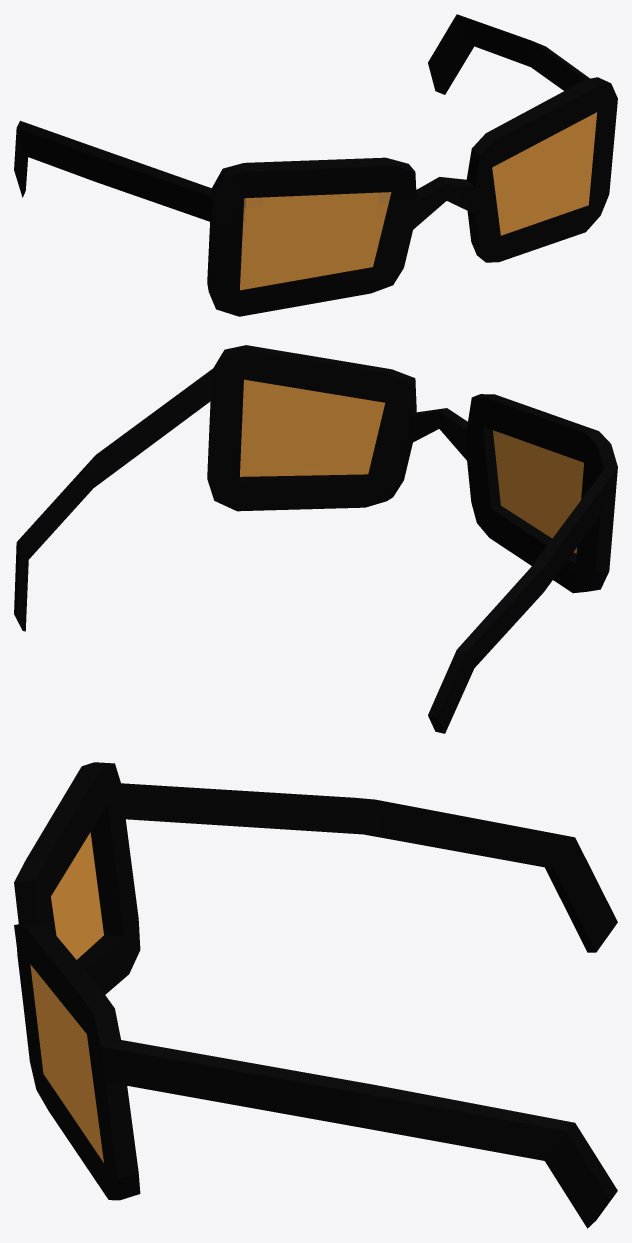
The model's file is WorldItem-GlassesCheese.fbx.
3 views of the same model, one above another, from view 1: azimuth 30°, elevation 25°; view 2: azimuth 150°, elevation 25°; view 3: azimuth 270°, elevation 25° (orthographic). The views are drawn at different scales.
Visible parts, largest first — view 1: M_Glasses_Normal; view 2: M_Glasses_Normal; view 3: M_Glasses_Normal.
Part boxes in pixels (<box>): M_Glasses_Normal: <box>14,14,617,316</box>; M_Glasses_Normal: <box>14,345,617,733</box>; M_Glasses_Normal: <box>14,762,617,1228</box>.
Size of the model in its own units: 0.1148 by 0.0385 by 0.0996.
